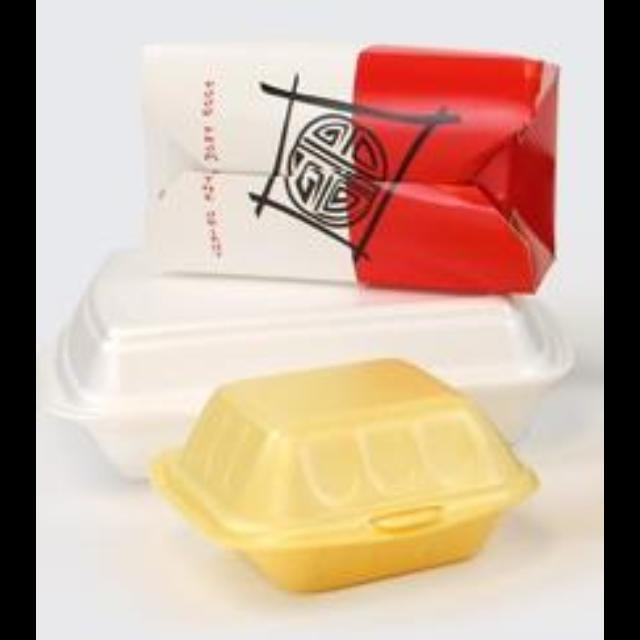plastic_box: (36, 243, 570, 477), (132, 34, 562, 292), (145, 350, 540, 588)
